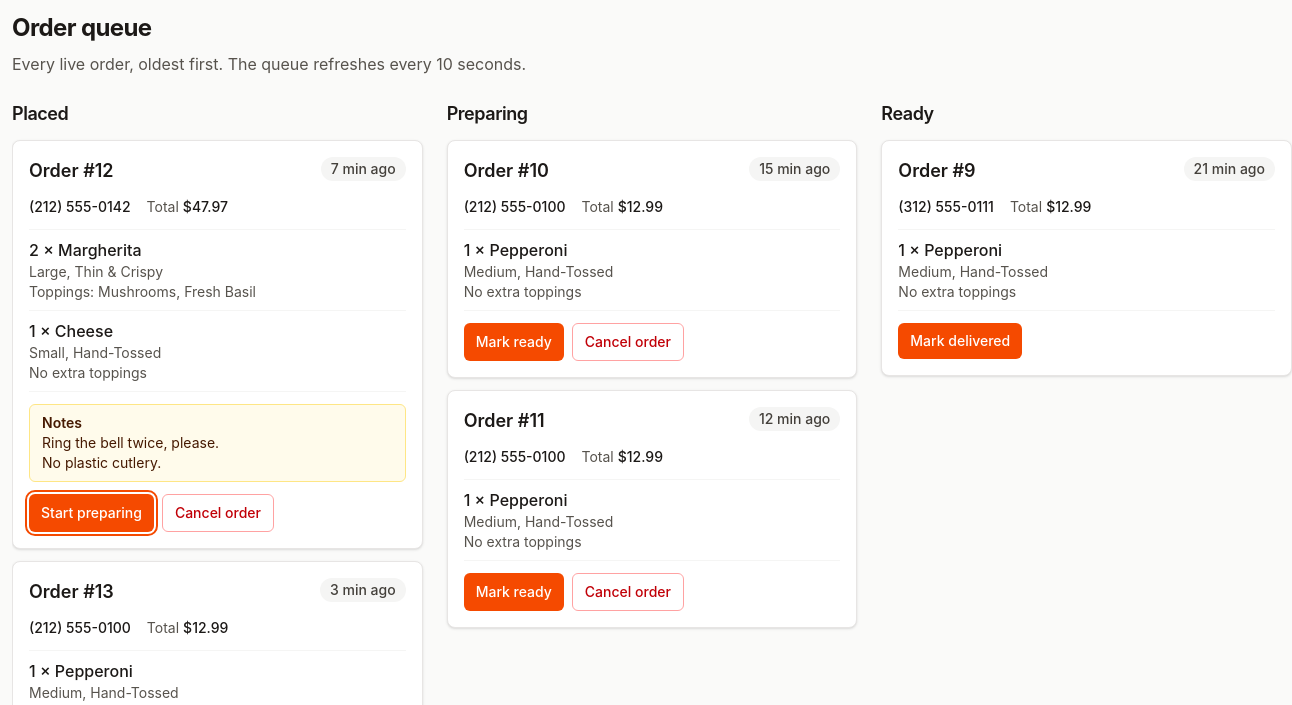
Test: StaffOrderQueuePage status changes › says the order changed elsewhere even when the 409 does not say what it is now
The image size is (1292, 705).
Click the button named "Start preparing order #12".
click(91, 513)  # box [29, 494, 154, 532]
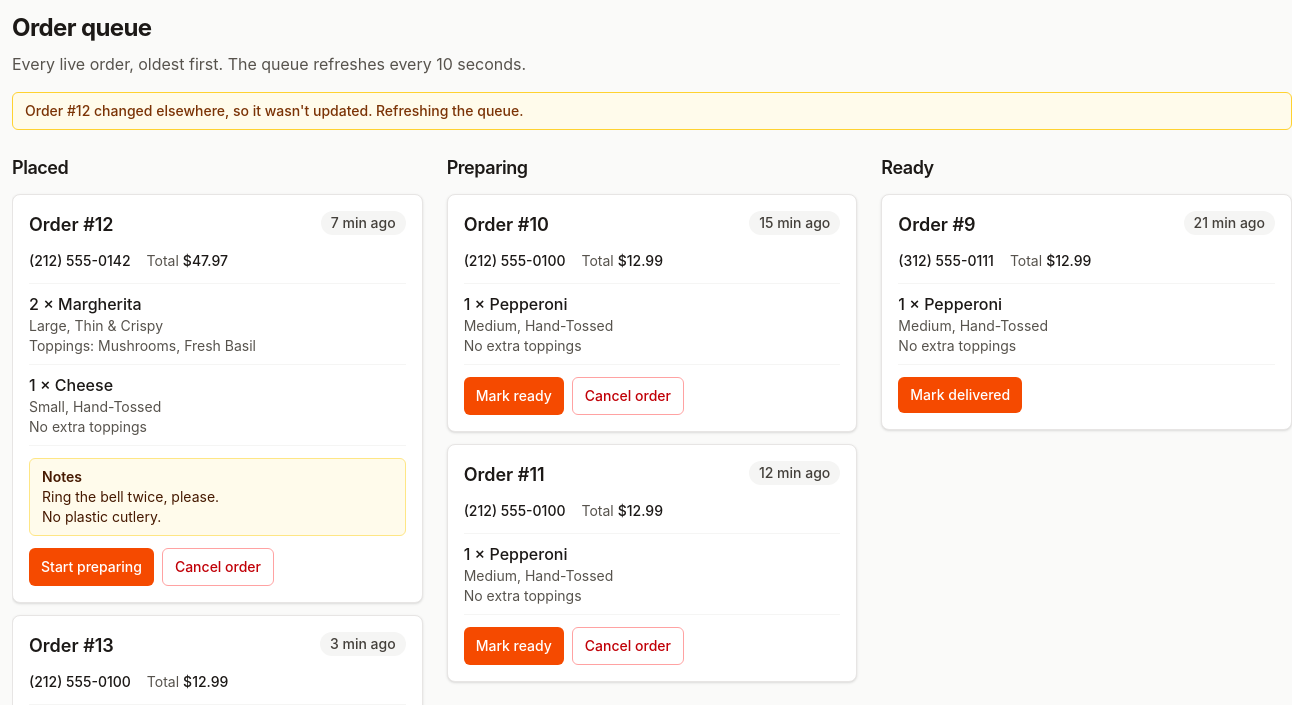
expect the message reads "Order #12 changed elsewhere, so it wasn't updated. Refreshing the queue.": met, box [25, 102, 523, 119]
